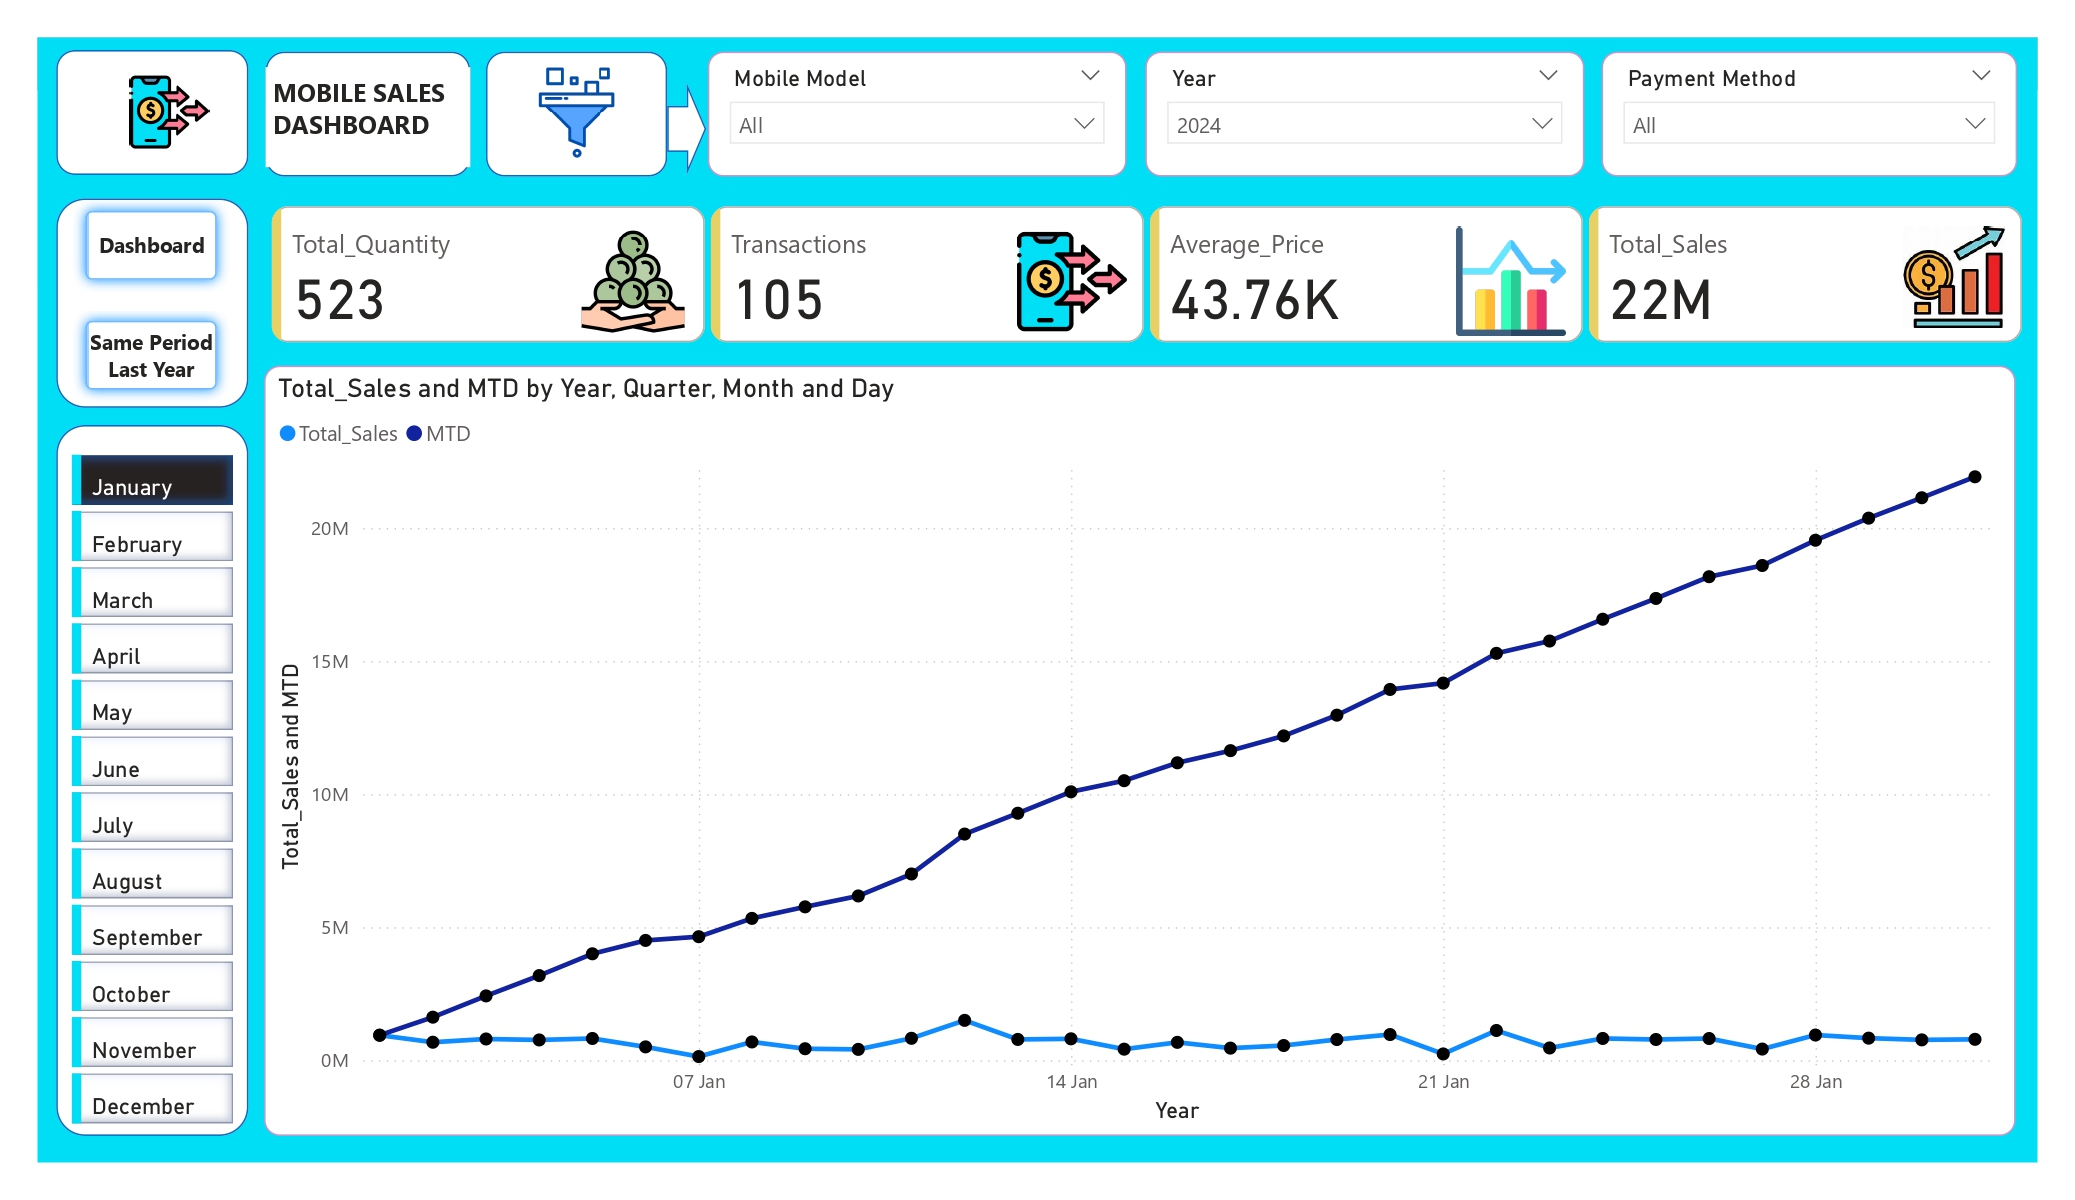

What the dashboard file says about the page in this screenshot:
{"tool":"powerbi","page":{"name":"MTD Report","canvas":[1280,720],"ordinal":1},"visuals":[{"type":"shape","box":[11.7,8.3,123.3,80],"z":0},{"type":"image","box":[0,16.7,168.3,61.7],"z":1000},{"type":"shape","box":[11.7,103.3,123.3,133.3],"z":2000},{"type":"cardVisual","fields":{"Data":["Sales_Data.Total_Quantity","Sales_Data.Transactions","Sales_Data.Average_Price","Sales_Data.Total_Sales"]},"box":[145.4,103,1129.6,96.9],"z":3000},{"type":"slicer","fields":{"Values":["Sales_Data.Mobile Model"]},"box":[428.6,8.6,268.6,80],"z":4000},{"type":"slicer","fields":{"Values":["Custom_Calendar.Date.Variation.Date Hierarchy.Year"]},"box":[708.6,8.6,281.4,80],"z":5000},{"type":"slicer","fields":{"Values":["Sales_Data.Payment Method"]},"box":[1001.4,8.6,265.7,80],"z":6000},{"type":"shape","box":[287.1,8.6,115.7,80],"z":7000},{"type":"image","box":[287.1,12.9,115.7,70],"z":8000},{"type":"shape","box":[403.3,29.4,24.4,58.9],"z":9000},{"type":"shape","box":[145.7,8.6,131.4,80],"z":10000},{"type":"textbox","box":[145.7,18.6,131.4,64.3],"z":11000},{"type":"lineChart","fields":{"Y":["Sales_Data.Total_Sales","Custom_Calendar.MTD"],"Category":["Custom_Calendar.Date.Variation.Date Hierarchy.Year","Custom_Calendar.Date.Variation.Date Hierarchy.Quarter","Custom_Calendar.Date.Variation.Date Hierarchy.Month","Custom_Calendar.Date.Variation.Date Hierarchy.Day"]},"box":[145.4,210.5,1120.5,492.1],"z":12000},{"type":"shape","box":[11.7,248.3,123.3,455],"z":13000},{"type":"advancedSlicerVisual","fields":{"Values":["Custom_Calendar.Date.Variation.Date Hierarchy.Month"]},"box":[16.7,261.7,113.3,441.7],"z":13001},{"type":"pageNavigator","box":[22.7,103,99.9,130.2],"z":13002}]}

Visuals, with their boxes on the page's 1280x720 design canvas (x1, y1, x2, y2). These are canvas units, not pixel positions in the 2075x1200 screenshot, which may show the page scaled, cropped or inside an application window:
shape: detection(12, 8, 135, 88)
image: detection(0, 17, 168, 78)
shape: detection(12, 103, 135, 237)
cardVisual - Sales_Data.Total_Quantity x Sales_Data.Transactions: detection(145, 103, 1275, 200)
slicer - Sales_Data.Mobile Model: detection(429, 9, 697, 89)
slicer - Custom_Calendar.Date.Variation.Date Hierarchy.Year: detection(709, 9, 990, 89)
slicer - Sales_Data.Payment Method: detection(1001, 9, 1267, 89)
shape: detection(287, 9, 403, 89)
image: detection(287, 13, 403, 83)
shape: detection(403, 29, 428, 88)
shape: detection(146, 9, 277, 89)
textbox: detection(146, 19, 277, 83)
lineChart - Sales_Data.Total_Sales x Custom_Calendar.MTD: detection(145, 210, 1266, 703)
shape: detection(12, 248, 135, 703)
advancedSlicerVisual - Custom_Calendar.Date.Variation.Date Hierarchy.Month: detection(17, 262, 130, 703)
pageNavigator: detection(23, 103, 123, 233)
